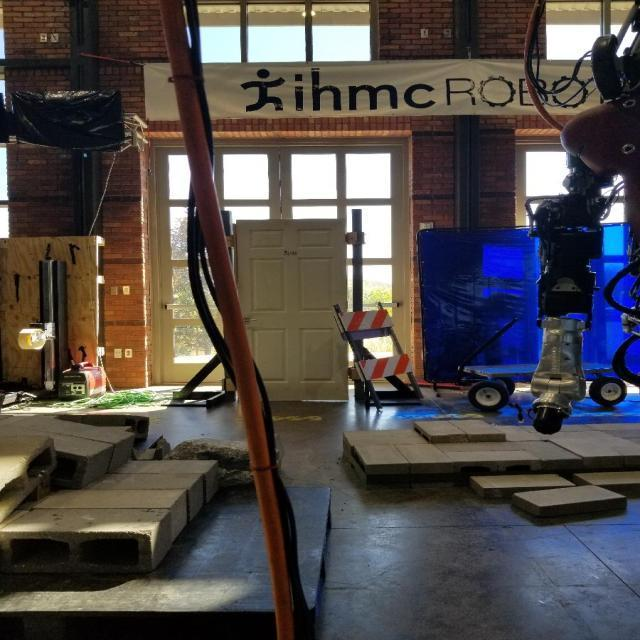door: (230, 216, 352, 406), (240, 314, 258, 329)
